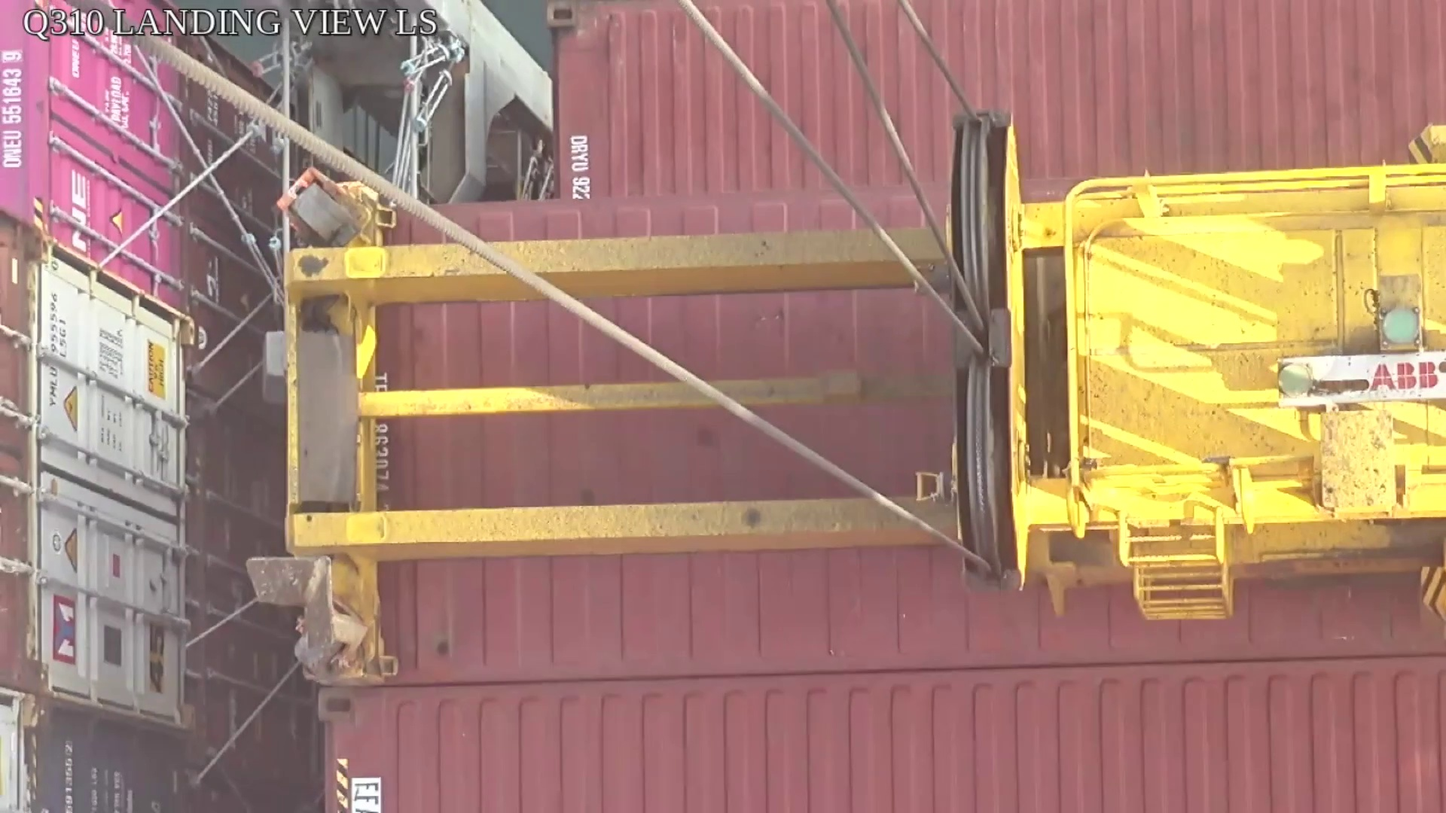aa: (945, 107, 1031, 597)
